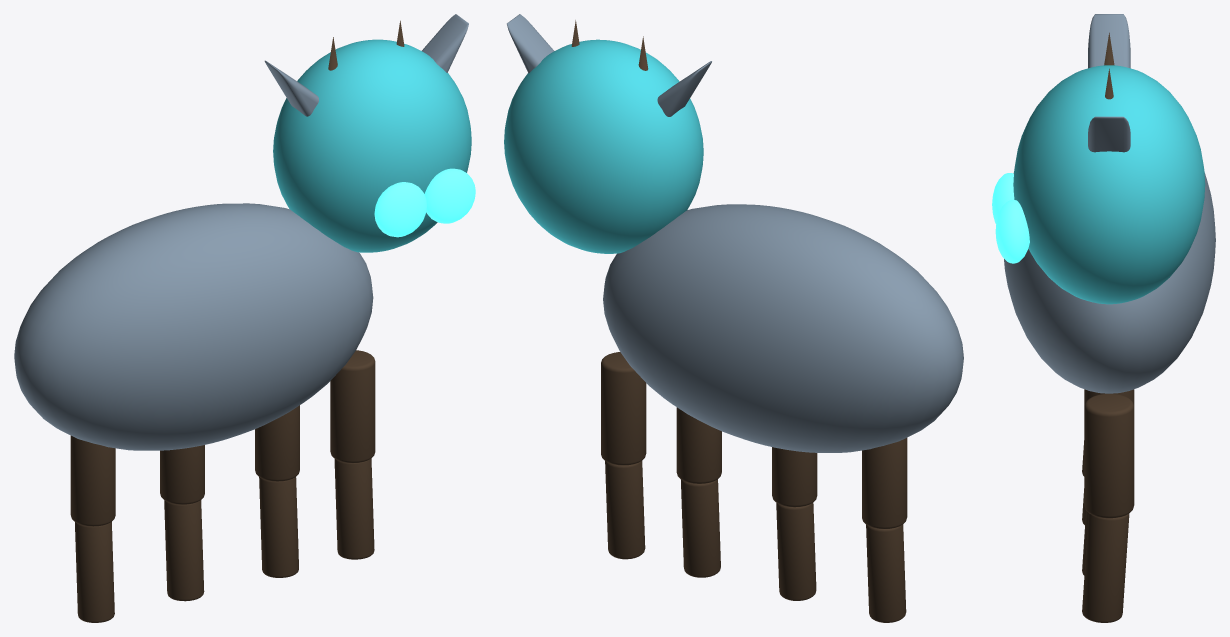
File: quadruped_v6.glb
3 views of the same model, side by side, from view 1: azimuth 30°, elevation 25°; view 2: azimuth 150°, elevation 25°; view 3: azimuth 270°, elevation 25° (orthographic). The views are drawn at different scales.
Parts seen in each view (by area): view 1: FAWN_BODY_PRIMARY, FAWN_HEAD_ACCENT, FAWN_UPPER_LEG_SECONDARY.003, FAWN_UPPER_LEG_SECONDARY, FAWN_LOWER_LEG_SECONDARY.003, FAWN_LOWER_LEG_SECONDARY, FAWN_LOWER_LEG_SECONDARY.001, FAWN_LOWER_LEG_SECONDARY.002, FAWN_UPPER_LEG_SECONDARY.002, FAWN_UPPER_LEG_SECONDARY.001, EYE_EMISSIVE, EYE_EMISSIVE.001 (+2 smaller); view 2: FAWN_BODY_PRIMARY, FAWN_HEAD_ACCENT, FAWN_UPPER_LEG_SECONDARY.003, FAWN_UPPER_LEG_SECONDARY, FAWN_LOWER_LEG_SECONDARY.002, FAWN_LOWER_LEG_SECONDARY.003, FAWN_LOWER_LEG_SECONDARY, FAWN_LOWER_LEG_SECONDARY.001, FAWN_UPPER_LEG_SECONDARY.002, FAWN_UPPER_LEG_SECONDARY.001, FAWN_EAR_PRIMARY.001, FAWN_EAR_PRIMARY; view 3: FAWN_HEAD_ACCENT, FAWN_BODY_PRIMARY, FAWN_UPPER_LEG_SECONDARY.003, FAWN_LOWER_LEG_SECONDARY.003, FAWN_EAR_PRIMARY, EYE_EMISSIVE.001, FAWN_EAR_PRIMARY.001, EYE_EMISSIVE.
Boxes of the visible parts, bbox=[...] form: FAWN_BODY_PRIMARY: bbox=[14, 203, 373, 450]; FAWN_HEAD_ACCENT: bbox=[273, 39, 471, 252]; FAWN_UPPER_LEG_SECONDARY.003: bbox=[330, 350, 375, 462]; FAWN_UPPER_LEG_SECONDARY: bbox=[70, 435, 115, 526]; FAWN_LOWER_LEG_SECONDARY.003: bbox=[334, 458, 374, 559]; FAWN_LOWER_LEG_SECONDARY: bbox=[75, 522, 114, 622]; FAWN_LOWER_LEG_SECONDARY.001: bbox=[164, 500, 204, 601]; FAWN_LOWER_LEG_SECONDARY.002: bbox=[259, 477, 298, 577]; FAWN_UPPER_LEG_SECONDARY.002: bbox=[255, 405, 299, 481]; FAWN_UPPER_LEG_SECONDARY.001: bbox=[160, 445, 204, 504]; EYE_EMISSIVE: bbox=[374, 182, 426, 237]; EYE_EMISSIVE.001: bbox=[424, 168, 475, 223]; FAWN_BODY_PRIMARY: bbox=[603, 204, 963, 452]; FAWN_HEAD_ACCENT: bbox=[504, 39, 703, 253]; FAWN_UPPER_LEG_SECONDARY.003: bbox=[601, 352, 646, 465]; FAWN_UPPER_LEG_SECONDARY: bbox=[862, 438, 907, 528]; FAWN_LOWER_LEG_SECONDARY.002: bbox=[681, 479, 720, 577]; FAWN_LOWER_LEG_SECONDARY.003: bbox=[605, 461, 645, 559]; FAWN_LOWER_LEG_SECONDARY: bbox=[866, 524, 906, 622]; FAWN_LOWER_LEG_SECONDARY.001: bbox=[776, 503, 816, 600]; FAWN_UPPER_LEG_SECONDARY.002: bbox=[676, 407, 721, 483]; FAWN_UPPER_LEG_SECONDARY.001: bbox=[772, 447, 817, 507]; FAWN_EAR_PRIMARY.001: bbox=[507, 14, 554, 73]; FAWN_EAR_PRIMARY: bbox=[657, 61, 711, 116]; FAWN_HEAD_ACCENT: bbox=[1013, 65, 1205, 304]; FAWN_BODY_PRIMARY: bbox=[1004, 173, 1215, 393]; FAWN_UPPER_LEG_SECONDARY.003: bbox=[1084, 393, 1134, 518]; FAWN_LOWER_LEG_SECONDARY.003: bbox=[1082, 513, 1129, 622]; FAWN_EAR_PRIMARY: bbox=[1088, 14, 1130, 68]; EYE_EMISSIVE.001: bbox=[995, 200, 1029, 263]; FAWN_EAR_PRIMARY.001: bbox=[1088, 116, 1130, 152]; EYE_EMISSIVE: bbox=[992, 173, 1014, 224].
Bounding box in the file's own units: 1.58 × 1.78 × 0.63.
